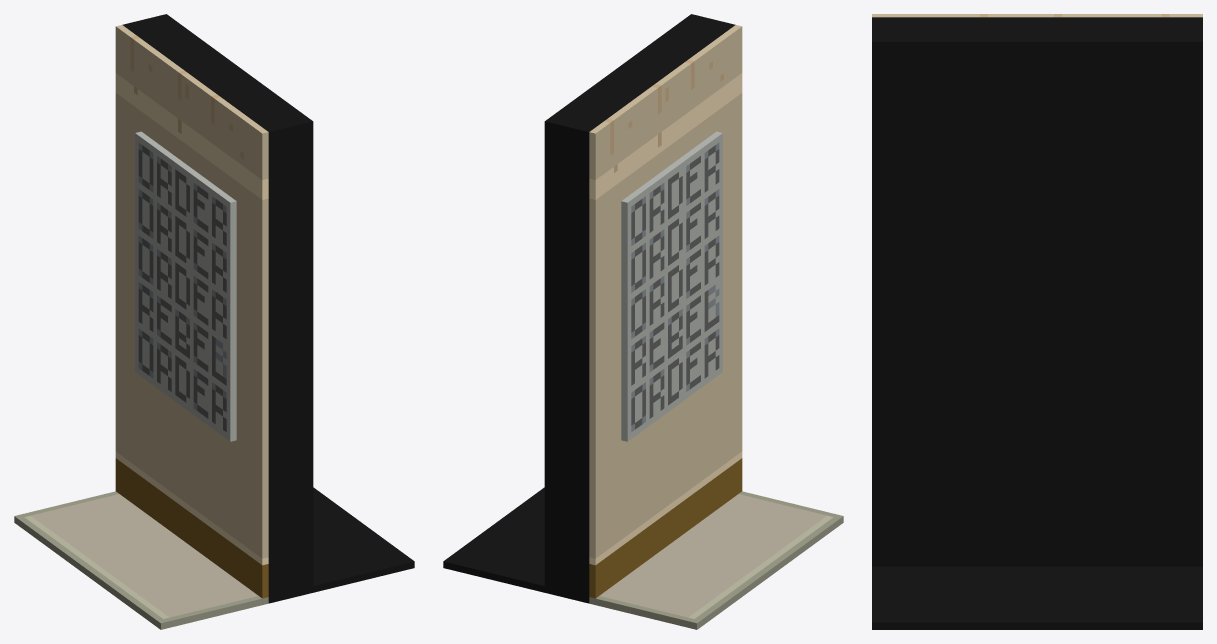
The model's file is Parede_Poster_1.obj.
The picture shows the model from 3 angles, left to right: view 1: azimuth 30°, elevation 25°; view 2: azimuth 150°, elevation 25°; view 3: azimuth 270°, elevation 25°; orthographic projection. The views are drawn at different scales.
Size of the model in its own units: 40 by 71 by 40.
Materials: 1 (1 with a texture image).
